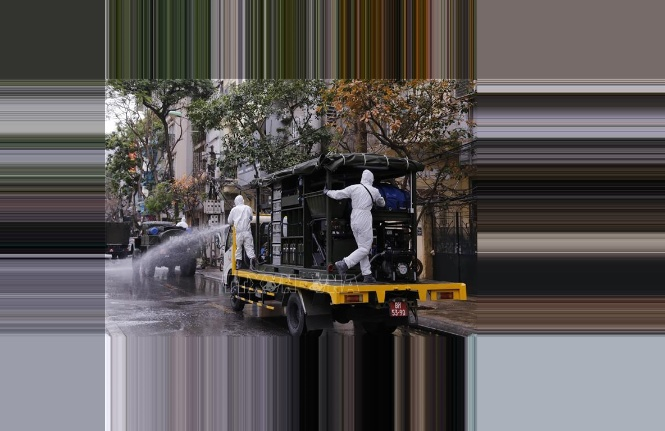plate: (389, 301, 410, 319)
